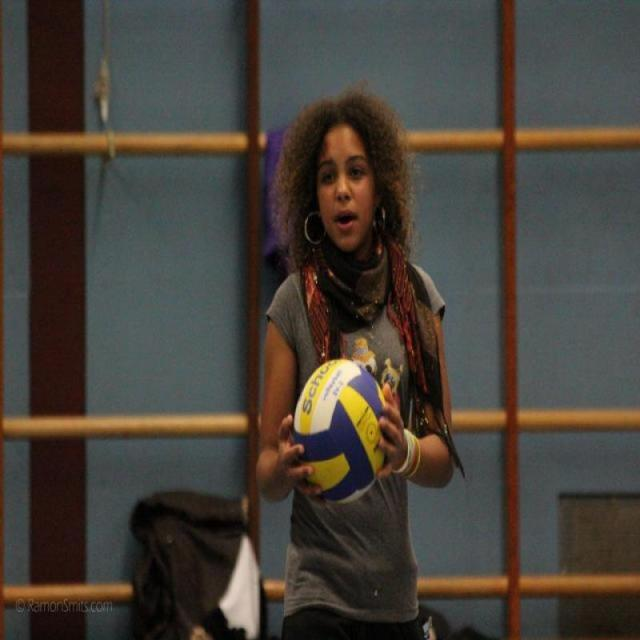volleyball: (291, 355, 387, 506)
